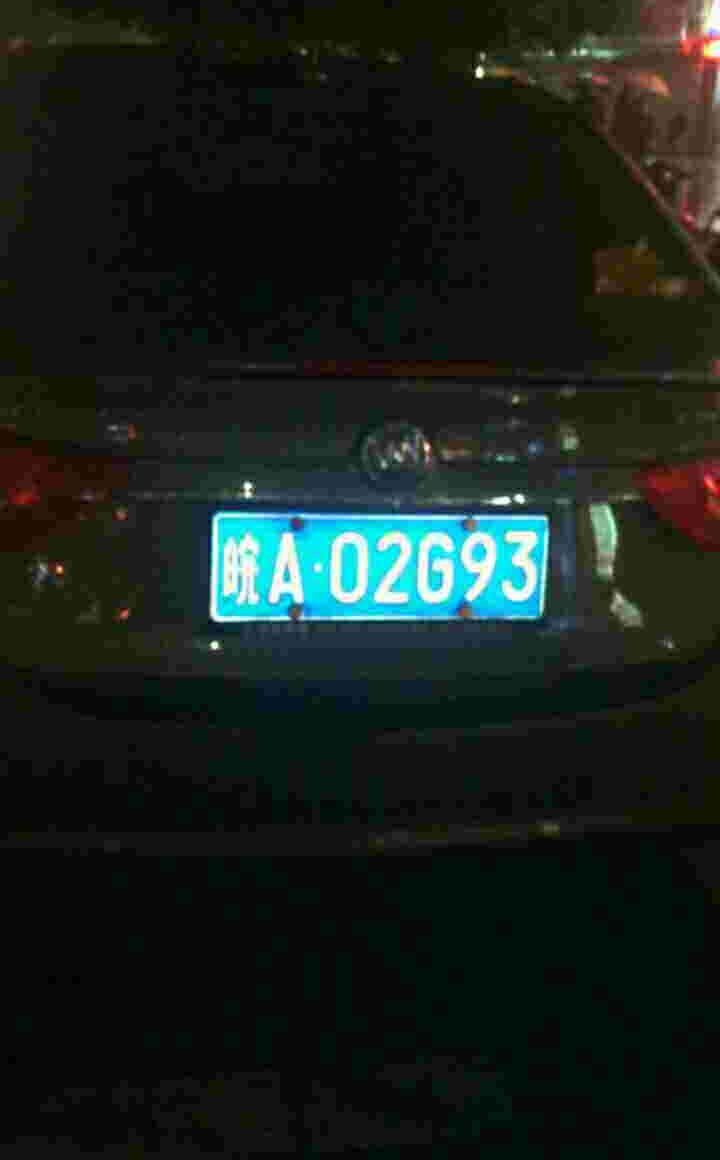license_plate: (209, 509, 551, 628)
